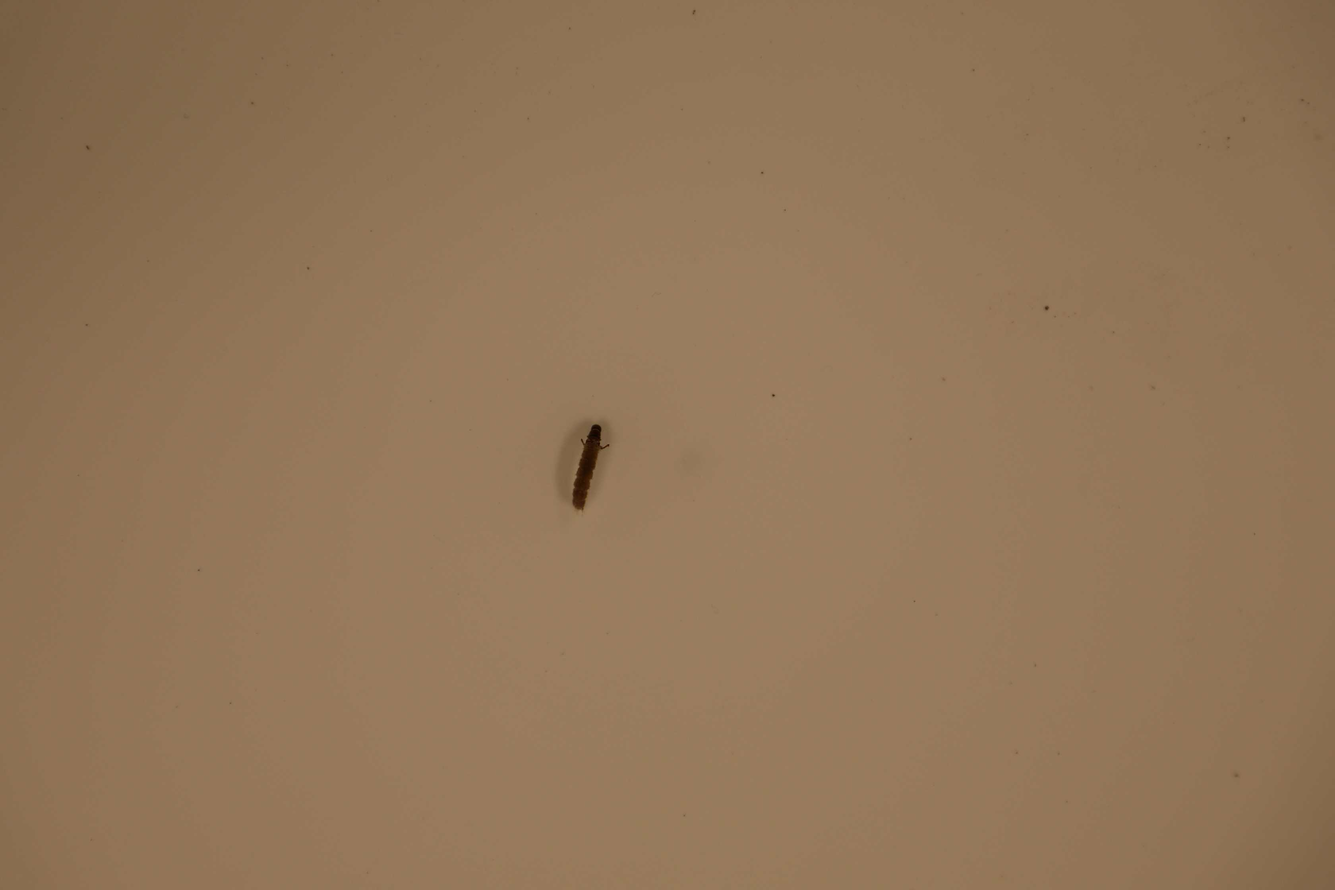Cadisfly: (561, 416, 608, 507)
